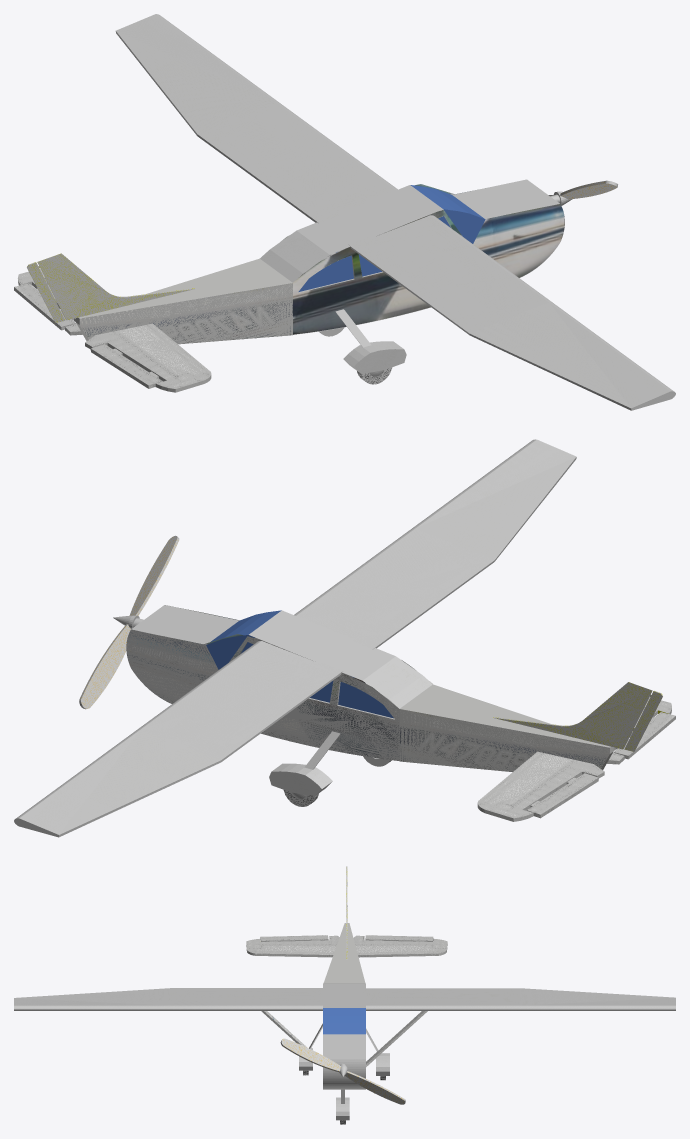
The picture shows the model from 3 angles, top to bottom: view 1: azimuth 30°, elevation 25°; view 2: azimuth 150°, elevation 25°; view 3: azimuth 270°, elevation 25°; orthographic projection. The views are drawn at different scales.
Visible parts, largest first — view 1: mesh21_mesh21-geometry, mesh19_mesh19-geometry, mesh26_mesh26-geometry, mesh16_mesh16-geometry, mesh9_mesh9-geometry, mesh14_mesh14-geometry, mesh33_mesh33-geometry, mesh8_mesh8-geometry, mesh27_mesh27-geometry, mesh2_mesh2-geometry, mesh15_mesh15-geometry, mesh30_mesh30-geometry; view 2: mesh19_mesh19-geometry, mesh26_mesh26-geometry, mesh21_mesh21-geometry, mesh16_mesh16-geometry, mesh3_mesh3-geometry, mesh14_mesh14-geometry, mesh39_mesh39-geometry, mesh28_mesh28-geometry, mesh2_mesh2-geometry, mesh30_mesh30-geometry, mesh8_mesh8-geometry, mesh15_mesh15-geometry; view 3: mesh26_mesh26-geometry, mesh21_mesh21-geometry, mesh19_mesh19-geometry, mesh3_mesh3-geometry, mesh9_mesh9-geometry, mesh16_mesh16-geometry, mesh30_mesh30-geometry, mesh28_mesh28-geometry, mesh8_mesh8-geometry, mesh2_mesh2-geometry.
Boxes of the visible parts, x1,y1,x2,y2 form: mesh21_mesh21-geometry: (348, 215, 675, 410); mesh19_mesh19-geometry: (260, 179, 564, 334); mesh26_mesh26-geometry: (115, 14, 397, 222); mesh16_mesh16-geometry: (76, 258, 292, 344); mesh9_mesh9-geometry: (85, 323, 211, 392); mesh14_mesh14-geometry: (37, 253, 195, 320); mesh33_mesh33-geometry: (335, 309, 406, 373); mesh8_mesh8-geometry: (90, 344, 162, 388); mesh27_mesh27-geometry: (297, 255, 354, 293); mesh2_mesh2-geometry: (14, 283, 76, 330); mesh15_mesh15-geometry: (27, 262, 65, 322); mesh30_mesh30-geometry: (560, 180, 617, 199); mesh19_mesh19-geometry: (126, 605, 432, 760); mesh26_mesh26-geometry: (14, 641, 342, 837); mesh21_mesh21-geometry: (294, 439, 576, 649); mesh16_mesh16-geometry: (399, 684, 613, 771); mesh3_mesh3-geometry: (477, 751, 604, 821); mesh14_mesh14-geometry: (493, 682, 652, 749); mesh39_mesh39-geometry: (269, 731, 340, 795); mesh28_mesh28-geometry: (79, 624, 130, 709); mesh2_mesh2-geometry: (526, 773, 598, 818); mesh30_mesh30-geometry: (129, 535, 179, 615); mesh8_mesh8-geometry: (613, 712, 675, 759); mesh15_mesh15-geometry: (624, 690, 662, 751); mesh26_mesh26-geometry: (363, 988, 675, 1010); mesh21_mesh21-geometry: (14, 988, 326, 1010); mesh19_mesh19-geometry: (323, 983, 427, 1089); mesh3_mesh3-geometry: (353, 935, 447, 957); mesh9_mesh9-geometry: (246, 935, 339, 957); mesh16_mesh16-geometry: (323, 923, 365, 983); mesh30_mesh30-geometry: (280, 1038, 341, 1072); mesh28_mesh28-geometry: (345, 1071, 405, 1104); mesh8_mesh8-geometry: (260, 935, 328, 941); mesh2_mesh2-geometry: (365, 935, 433, 941).
Bounding box in the file's own units: 0.5187 × 0.1569 × 0.8405.
